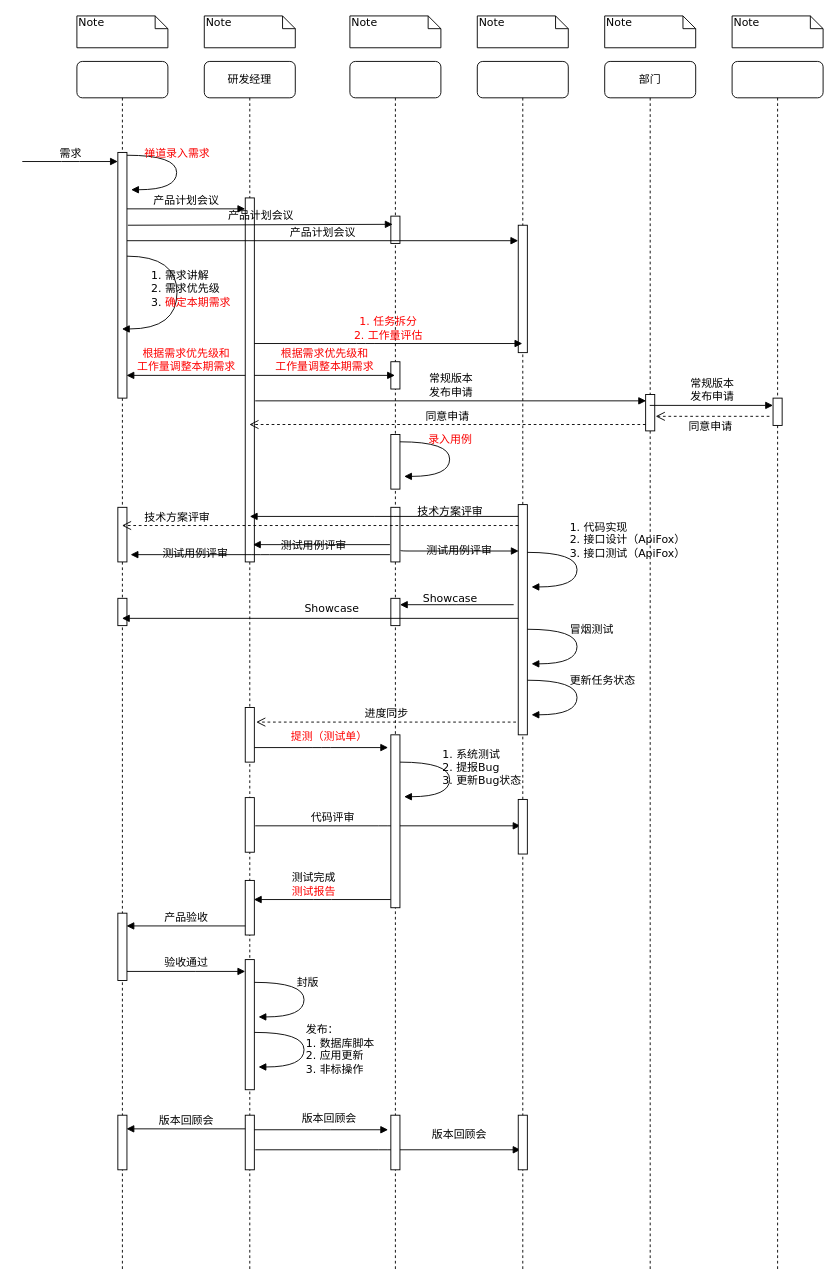
This 839x1288 diagram has some shape labels left out. The shapes that lost their labels are listed below. From the top down, each one's box as (x1, y1, x2, y2) in pixels, then its label:
(76, 61, 168, 1272): 产品经理
(349, 61, 441, 1272): 测试
(476, 61, 568, 1272): 研发
(731, 61, 823, 1272): 研发中心
